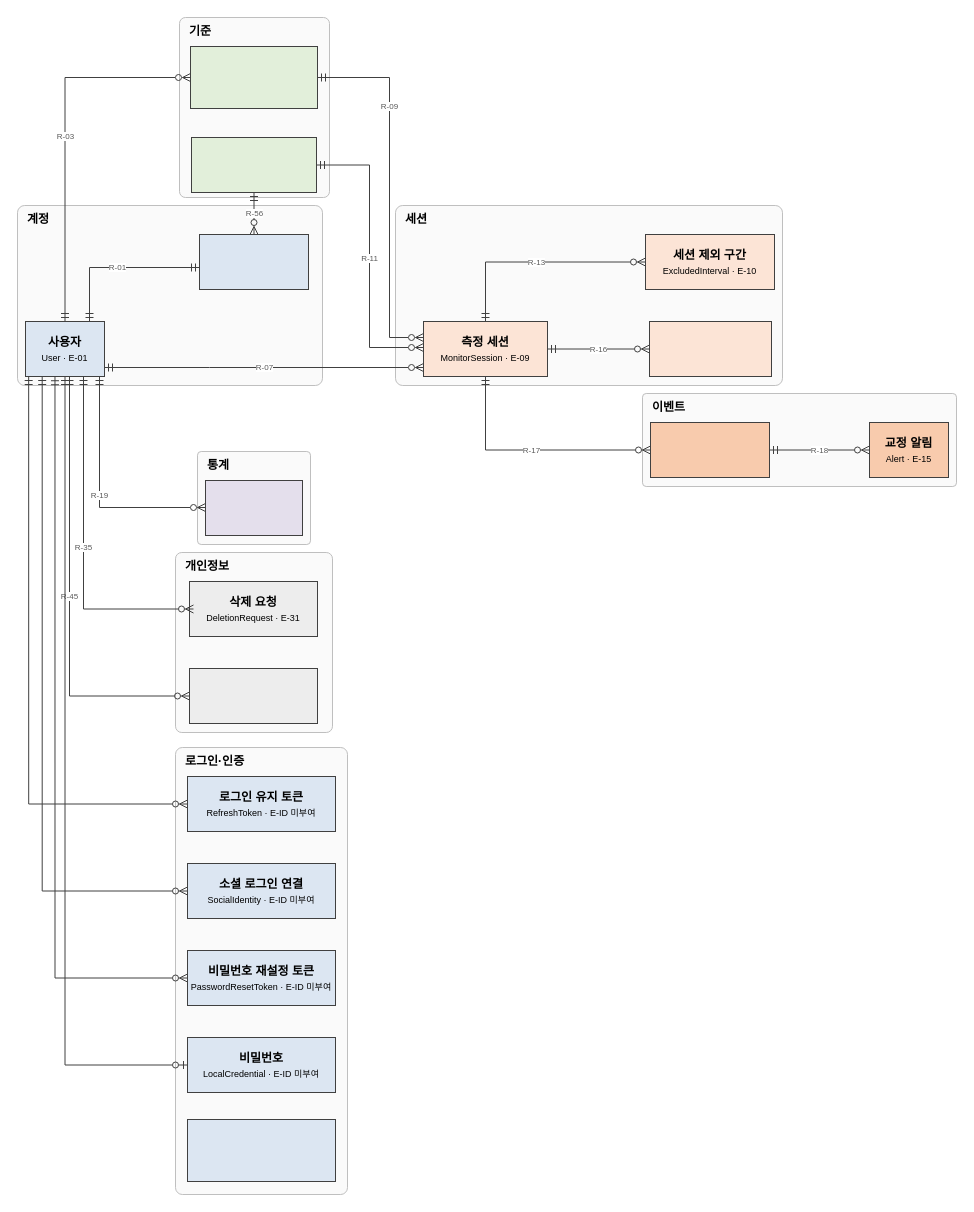
The diagram is 974 pixels wide and 1212 high, and some of its shapes have lost their labels. The shapes that lost their labels are listed below. From the top down, each one's centre as x and y in pixels, then its label:
At pixel 254 77: "기준 자세 BaselinePosture · E-04 관절 좌표 18개".
At pixel 253 164: "판정 정책 ThresholdPolicy · E-08".
At pixel 253 262: "사용자 설정 UserSetting · E-02".
At pixel 710 348: "특징값 적재 기록 FeatureArchive · E-13".
At pixel 710 450: "붕괴 이벤트 CollapseEvent · E-14".
At pixel 253 508: "일별 통계 DailyStat · E-16".
At pixel 253 696: "사용자 동의 UserConsent · E-38".
At pixel 261 1150: "이메일 인증 토큰 EmailVerificationToken · E-ID 미부여 가입 전 · 계정과 관계 없음(이메일)".
